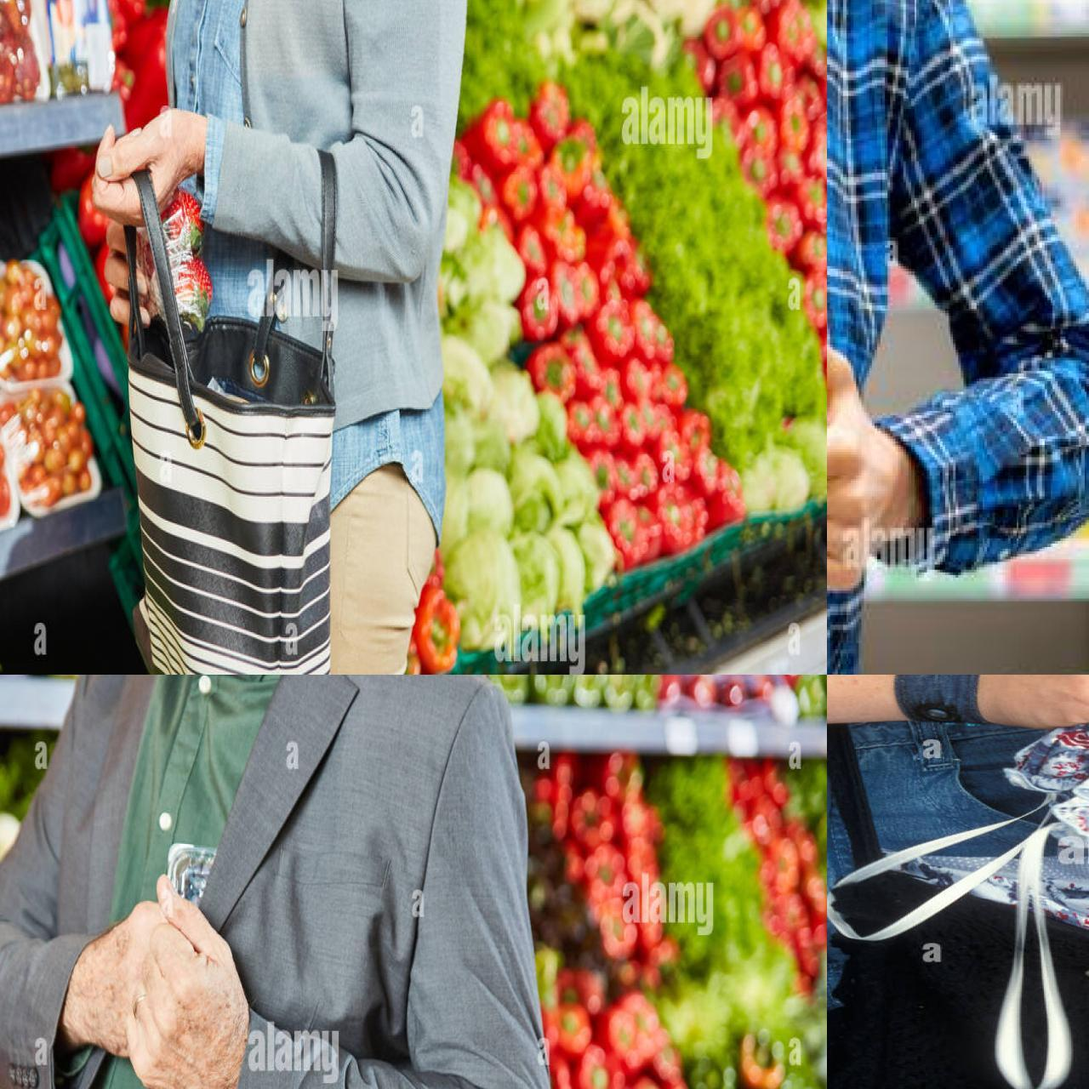shoplifting: (37, 96, 423, 681)
